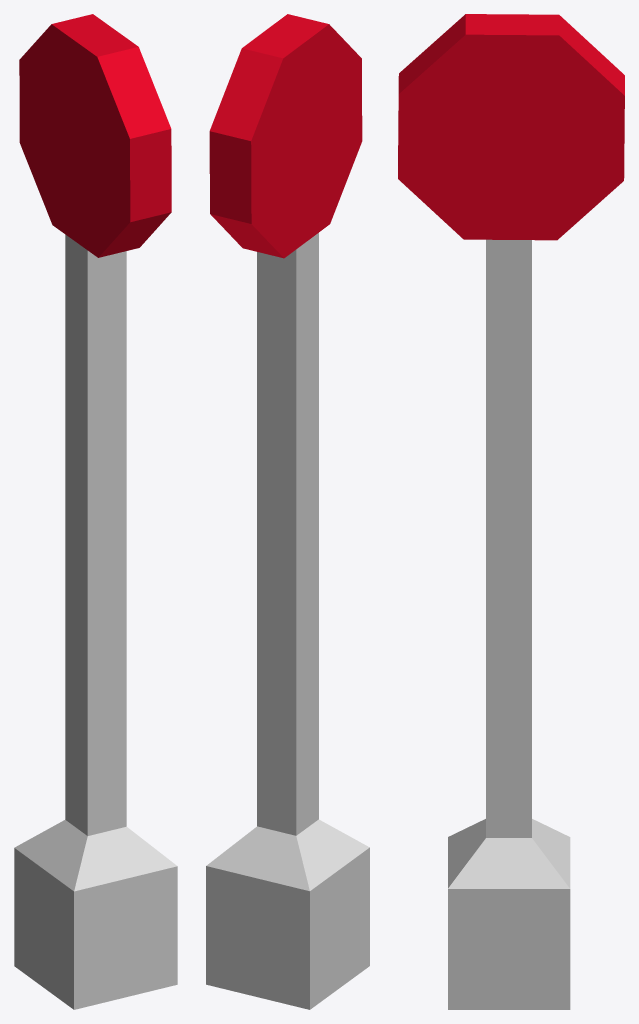
Rendered from StopSign.fbx.
3 views of the same model, side by side, from view 1: azimuth 30°, elevation 25°; view 2: azimuth 150°, elevation 25°; view 3: azimuth 270°, elevation 25° (orthographic). The views are drawn at different scales.
Visible parts, largest first — view 1: Cube, Cylinder; view 2: Cube, Cylinder; view 3: Cube, Cylinder.
Part boxes in pixels (x1=…): Cube: x1=14, y1=234, x2=177, y2=1009; Cylinder: x1=19, y1=14, x2=171, y2=257; Cube: x1=206, y1=233, x2=369, y2=1009; Cylinder: x1=209, y1=14, x2=362, y2=258; Cube: x1=448, y1=239, x2=570, y2=1009; Cylinder: x1=398, y1=14, x2=624, y2=240.
Bounding box in the file's own units: 40 × 346 × 74.17.
